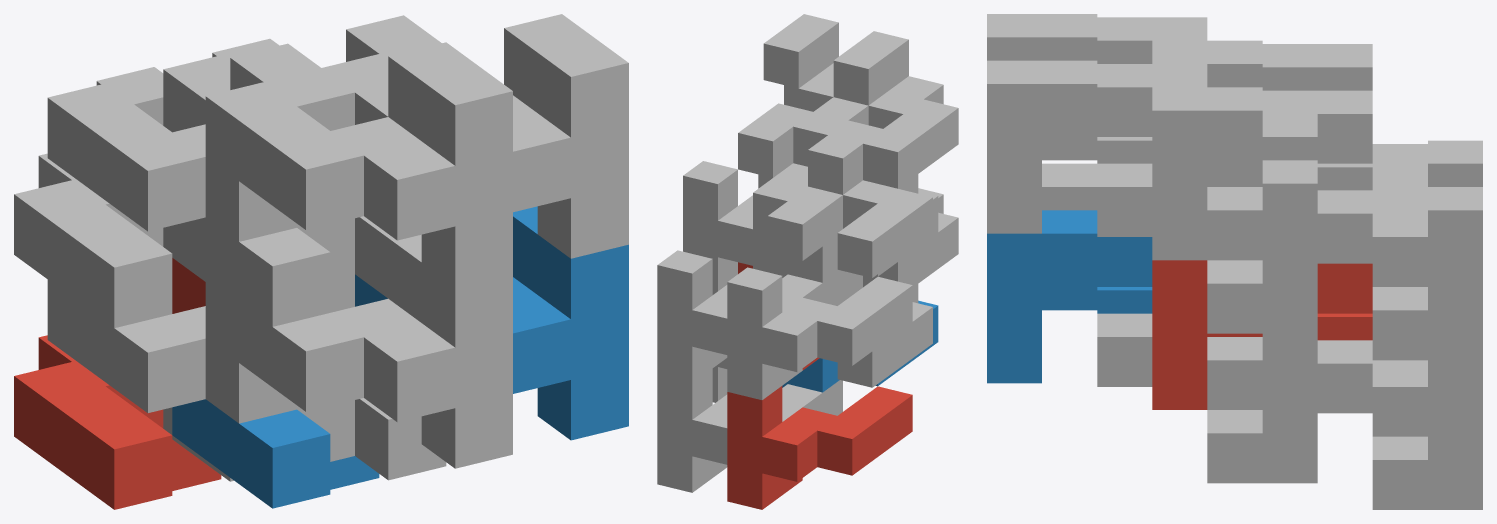
The model's file is tiling.obj.
3 renders of one model, left to right at view 1: azimuth 30°, elevation 25°; view 2: azimuth 150°, elevation 25°; view 3: azimuth 270°, elevation 25°, orthographic. The views are drawn at different scales.
Parts seen in each view (by area): view 1: copy_2_domain_4, copy_2_domain_2, copy_2_domain_8, copy_2_domain_3, copy_2_domain_6, copy_2_domain_1, copy_1_domain_3, copy_1_domain_1, copy_1_domain_2, copy_1_domain_4, copy_2_domain_7, copy_1_domain_6 (+3 smaller); view 2: copy_1_domain_3, copy_1_domain_1, copy_2_domain_4, copy_2_domain_3, copy_1_domain_7, copy_1_domain_5, copy_2_domain_7, copy_2_domain_8, copy_1_domain_8, copy_1_domain_4, copy_2_domain_1, copy_2_domain_2 (+2 smaller); view 3: copy_1_domain_7, copy_1_domain_8, copy_1_domain_5, copy_1_domain_6, copy_2_domain_7, copy_2_domain_8, copy_2_domain_6, copy_2_domain_5, copy_2_domain_3, copy_2_domain_4, copy_1_domain_3, copy_1_domain_4 (+3 smaller).
Boxes of the visible parts, box(x1,y1,x2,y2) form: copy_2_domain_4: box(205, 42, 512, 286); copy_2_domain_2: box(205, 234, 512, 468); copy_2_domain_8: box(322, 14, 628, 258); copy_2_domain_3: box(47, 43, 354, 279); copy_2_domain_6: box(355, 206, 628, 440); copy_2_domain_1: box(47, 274, 354, 461); copy_1_domain_3: box(14, 67, 172, 327); copy_1_domain_1: box(14, 335, 221, 509); copy_1_domain_2: box(172, 399, 379, 508); copy_1_domain_4: box(172, 217, 330, 326); copy_2_domain_7: box(163, 15, 441, 132); copy_1_domain_6: box(355, 398, 446, 480); copy_1_domain_3: box(727, 267, 912, 399); copy_1_domain_1: box(727, 386, 912, 509); copy_2_domain_4: box(833, 31, 958, 188); copy_2_domain_3: box(808, 120, 932, 277); copy_1_domain_7: box(657, 250, 842, 383); copy_1_domain_5: box(657, 368, 842, 492); copy_2_domain_7: box(738, 103, 842, 260); copy_2_domain_8: box(763, 14, 868, 166); copy_1_domain_8: box(683, 161, 752, 293); copy_1_domain_4: box(753, 178, 938, 282); copy_2_domain_1: box(837, 271, 932, 387); copy_2_domain_2: box(863, 188, 958, 287); copy_1_domain_7: box(1317, 187, 1482, 360); copy_1_domain_8: box(1097, 160, 1317, 333); copy_1_domain_5: box(1317, 340, 1482, 509); copy_1_domain_6: box(1097, 313, 1317, 483); copy_2_domain_7: box(1152, 87, 1372, 260); copy_2_domain_8: box(987, 60, 1207, 233); copy_2_domain_6: box(987, 210, 1152, 383); copy_2_domain_5: box(1152, 260, 1372, 409); copy_2_domain_3: box(1152, 40, 1372, 90); copy_2_domain_4: box(987, 14, 1207, 63); copy_1_domain_3: box(1317, 140, 1482, 190); copy_1_domain_4: box(1097, 114, 1317, 163).
Size of the model in its own units: 6 by 9 by 9.
